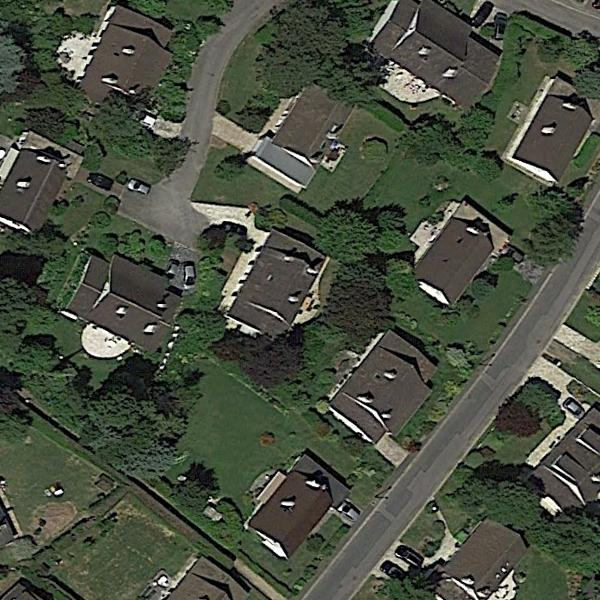Buildings: (375, 14, 488, 92), (84, 3, 172, 100), (226, 246, 322, 325), (267, 91, 338, 187), (77, 259, 162, 335), (349, 347, 424, 432), (259, 463, 328, 548), (4, 146, 57, 233), (417, 224, 479, 295), (521, 103, 582, 175), (450, 531, 519, 591), (552, 418, 600, 500), (170, 558, 242, 600)
